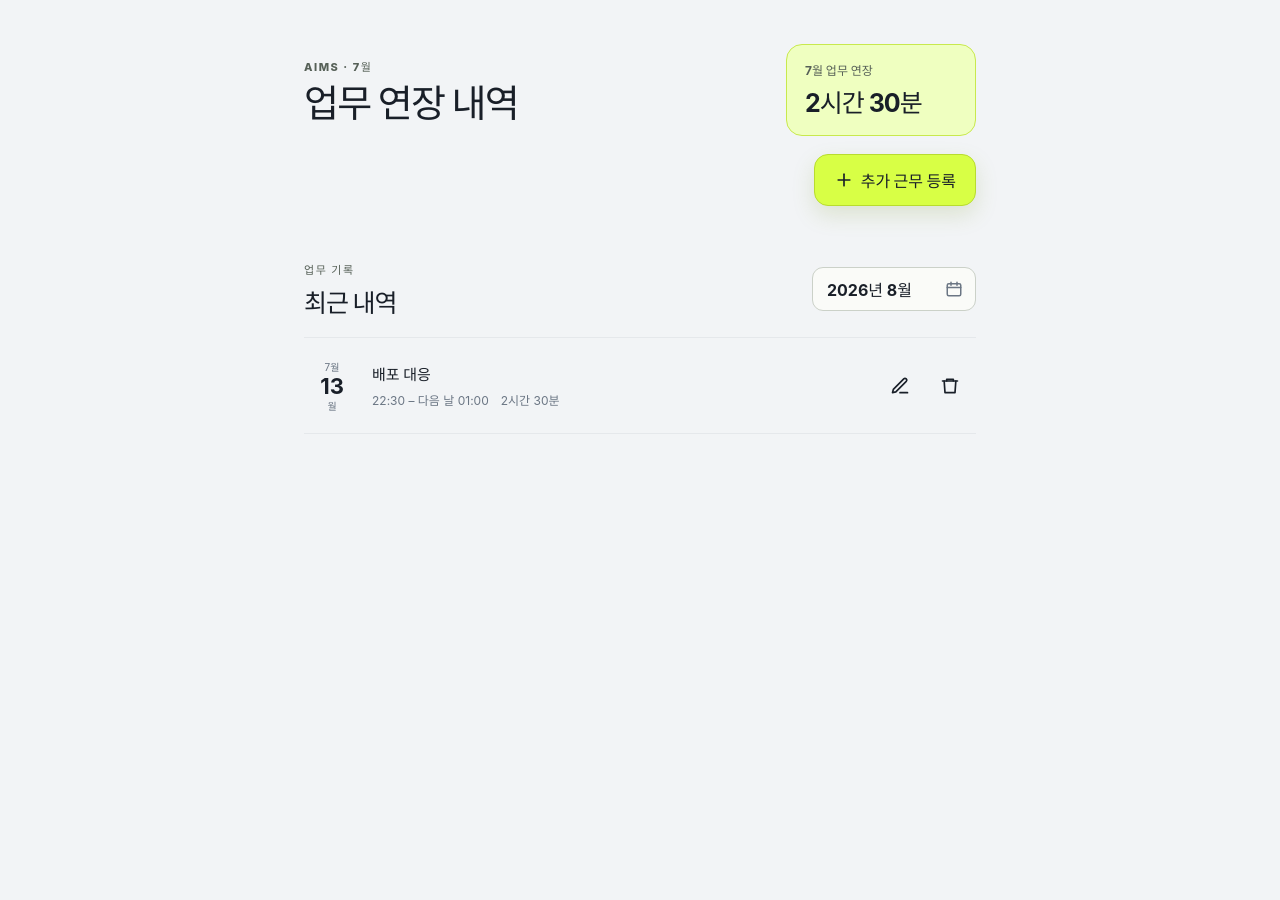
it: OvertimePage › asks in a service dialog before deleting
This screenshot has width=1280, height=900.
Click the button named "배포 대응 내역 삭제" at point(950, 386), box 928,364 -> 972,408
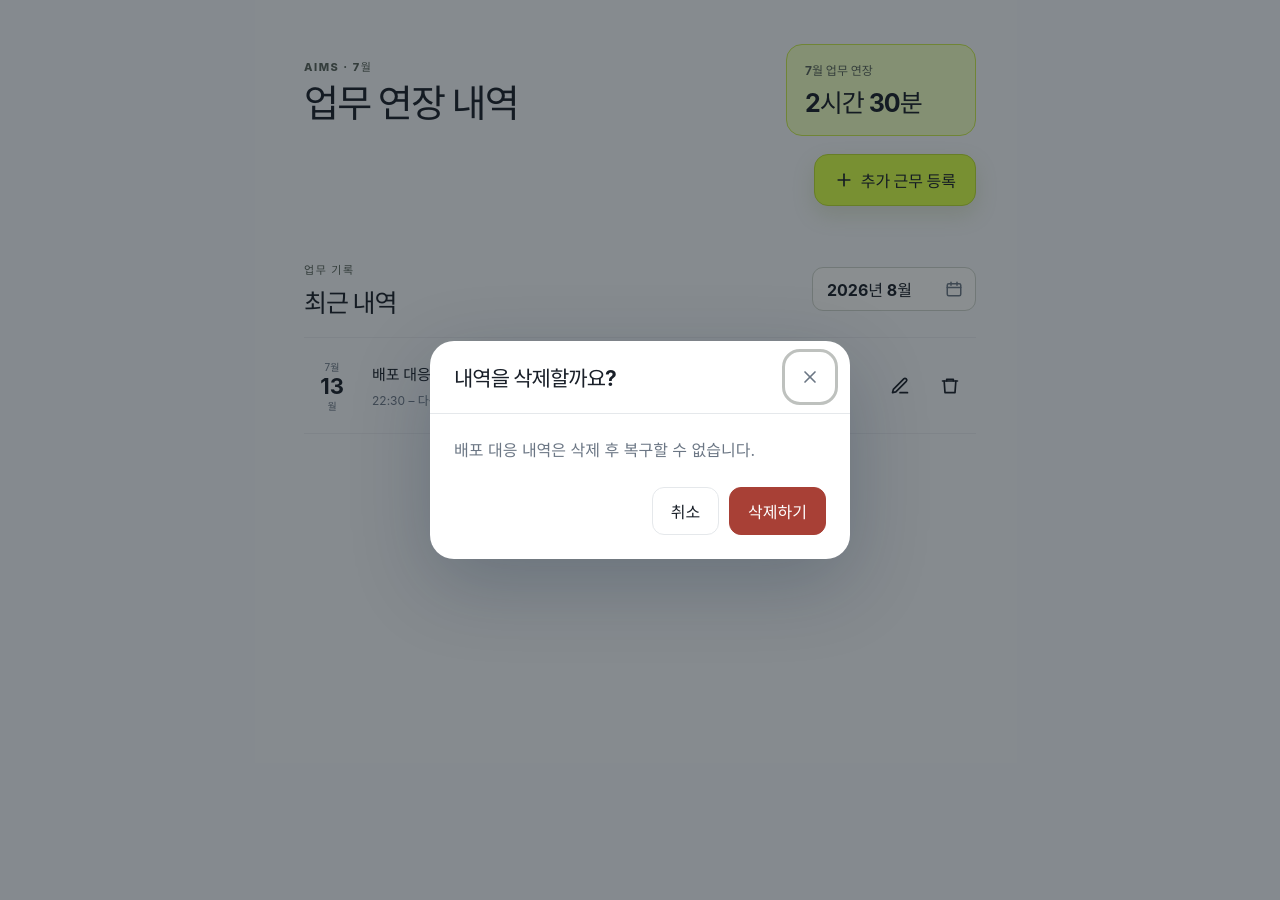
Expected: the dialog "내역을 삭제할까요?" is shown, 430,341 -> 850,559
Expected: the button "삭제하기" is shown, 729,487 -> 826,535
